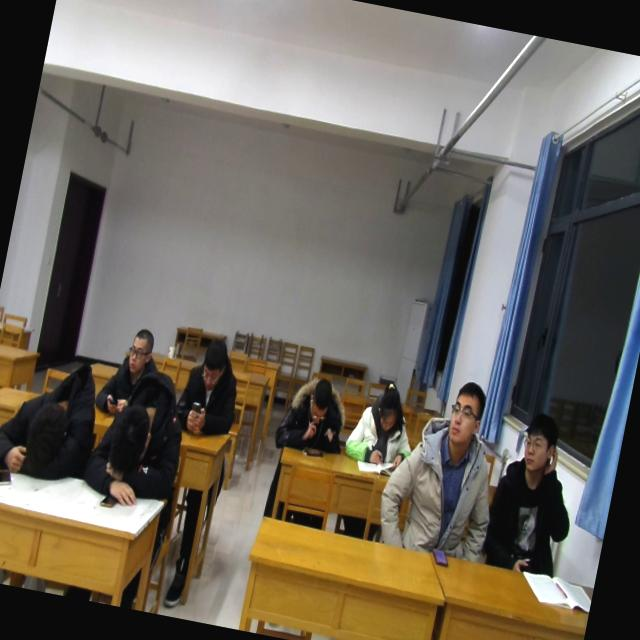bow: (79, 371, 198, 519), (0, 348, 109, 485)
down: (194, 328, 234, 392), (368, 379, 408, 442), (300, 372, 338, 428)
lookup: (514, 402, 564, 483), (444, 372, 492, 449), (120, 316, 159, 376)
sit: (373, 370, 513, 560), (484, 401, 590, 575), (170, 337, 251, 447), (272, 360, 357, 464), (93, 316, 175, 419), (342, 378, 420, 472)
